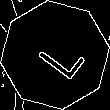L_NW: (25, 27, 85, 83)
